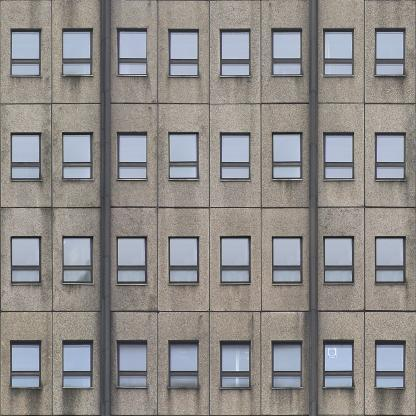Building Outline: (0, 0, 416, 416)
Facade: (0, 0, 416, 416)
Floor: (0, 312, 416, 410), (0, 104, 416, 201), (0, 0, 415, 97), (0, 208, 416, 304)
Floor Slab: (0, 97, 416, 104), (0, 201, 416, 208), (0, 409, 416, 416), (0, 305, 416, 311)
Pillar: (309, 0, 318, 416), (101, 0, 110, 416)
Window: (375, 340, 406, 388), (323, 340, 354, 388), (220, 340, 251, 388), (168, 340, 199, 388), (11, 340, 42, 388), (375, 28, 406, 76), (323, 28, 354, 76), (220, 28, 251, 76), (168, 28, 199, 76), (11, 28, 42, 76), (375, 132, 406, 180), (323, 132, 354, 180), (220, 132, 251, 180), (168, 132, 199, 180), (10, 132, 41, 180), (375, 236, 406, 284), (323, 236, 354, 284), (220, 236, 251, 284), (168, 236, 199, 284), (11, 236, 42, 284), (272, 340, 302, 388), (117, 340, 147, 388), (63, 340, 93, 388), (272, 28, 302, 76), (117, 28, 147, 76), (63, 28, 93, 76), (272, 132, 302, 180), (117, 132, 147, 180), (63, 132, 93, 180), (272, 236, 302, 284), (117, 236, 147, 284), (63, 236, 93, 284)
